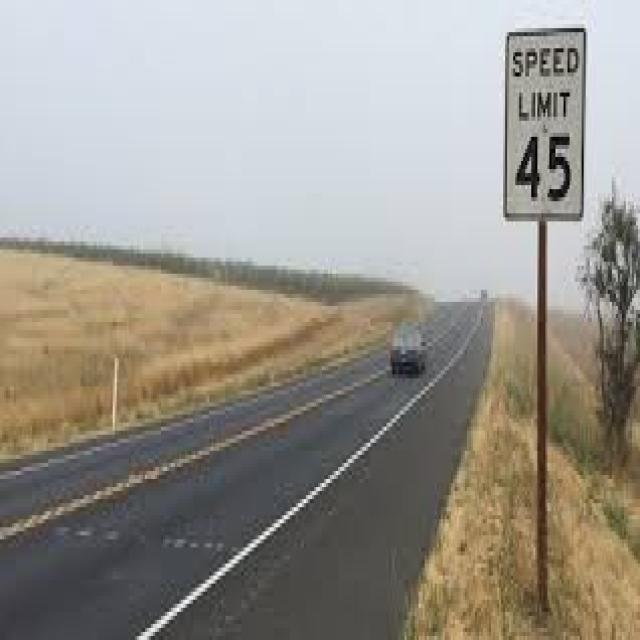speedLimit45: (506, 22, 587, 228)
